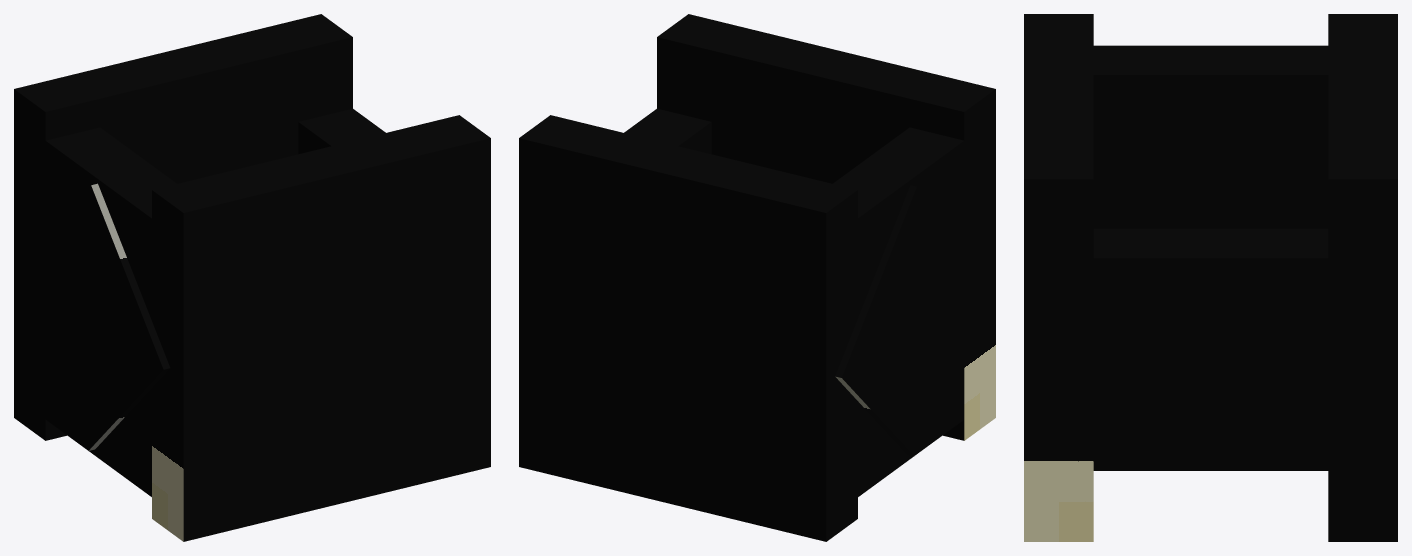
The model's file is gesetz_handle.obj.
3 views of the same model, side by side, from view 1: azimuth 30°, elevation 25°; view 2: azimuth 150°, elevation 25°; view 3: azimuth 270°, elevation 25° (orthographic). The views are drawn at different scales.
Visible parts, largest first — view 1: cube.004; view 2: cube.004; view 3: cube.004.
Part boxes in pixels (left/top/right/bottom): cube.004: left=14, top=14, right=490, bottom=541; cube.004: left=519, top=14, right=995, bottom=541; cube.004: left=1024, top=14, right=1397, bottom=541.
Bounding box in the file's own units: 0.3536 × 0.3536 × 0.3306.
